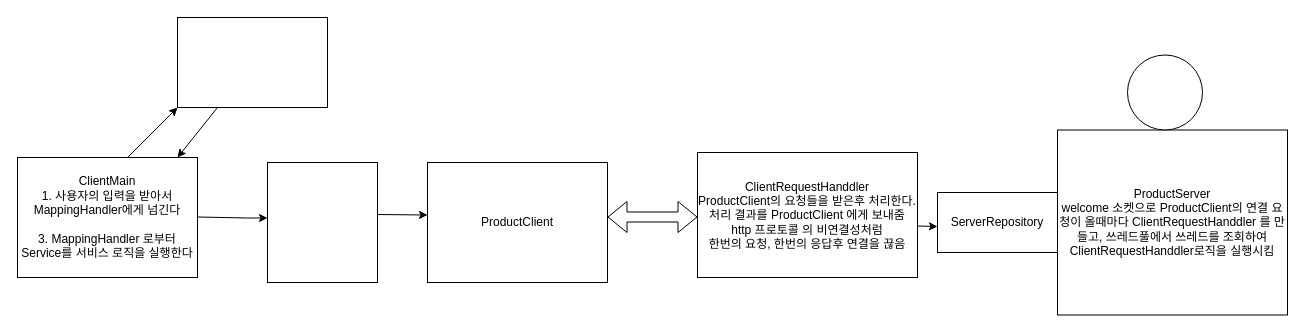
Some shapes in this 1305 by 333 pixel diagram are drawn without their labels. The centre of each missing label's shape, as x and y in pixels:
"MappingHandler 2. ClientMain이 넘겨준 사용자의 입력에 맞는 Service를 찾아서 ClientMain에게 넘겨준다" belongs at (252,62).
"Service" belongs at (322,222).
"welcome소켓" belongs at (1164,92).
